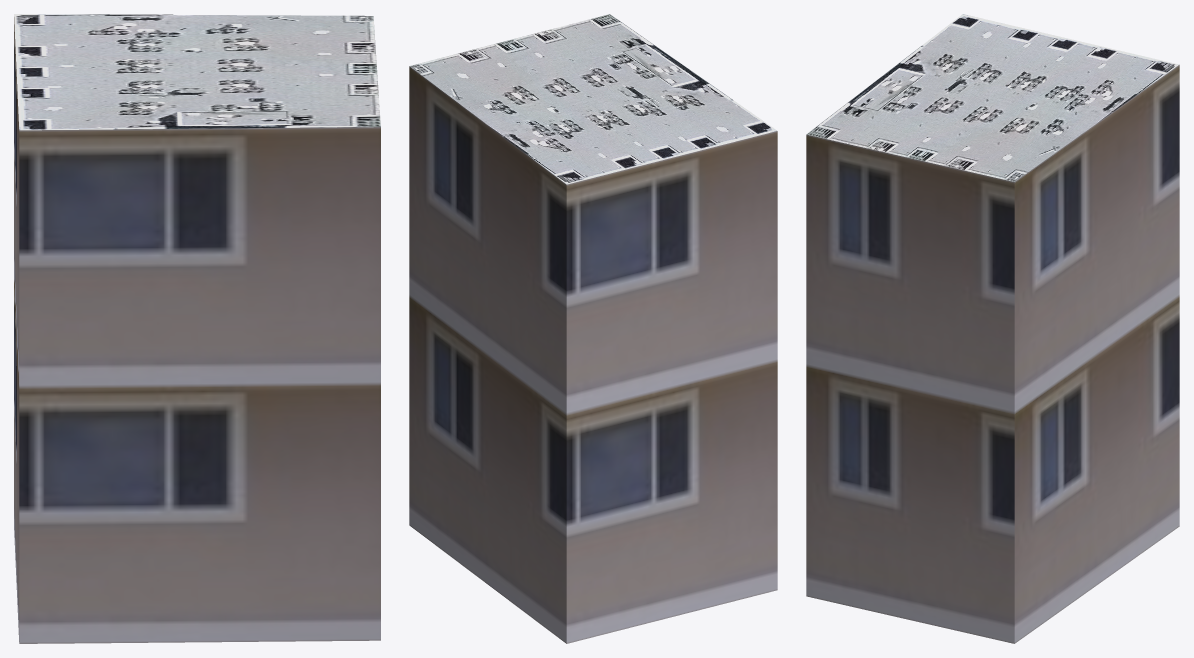
Rendered from ResTex__2586.fbx.
3 views of the same model, side by side, from view 1: azimuth 30°, elevation 25°; view 2: azimuth 150°, elevation 25°; view 3: azimuth 270°, elevation 25° (orthographic). The views are drawn at different scales.
Parts seen in each view (by area): view 1: CityEngineMaterial_21_m, CityEngineMaterial_8_m; view 2: CityEngineMaterial_21_m, CityEngineMaterial_8_m; view 3: CityEngineMaterial_21_m, CityEngineMaterial_8_m.
Part boxes in pixels (bbox=[...]): CityEngineMaterial_21_m: bbox=[14, 17, 380, 643]; CityEngineMaterial_8_m: bbox=[14, 14, 380, 130]; CityEngineMaterial_21_m: bbox=[409, 66, 777, 643]; CityEngineMaterial_8_m: bbox=[409, 14, 776, 184]; CityEngineMaterial_21_m: bbox=[806, 65, 1179, 643]; CityEngineMaterial_8_m: bbox=[806, 14, 1179, 181].
Bounding box in the file's own units: 4.68 × 6 × 4.4.
2 materials, 2 textured.
